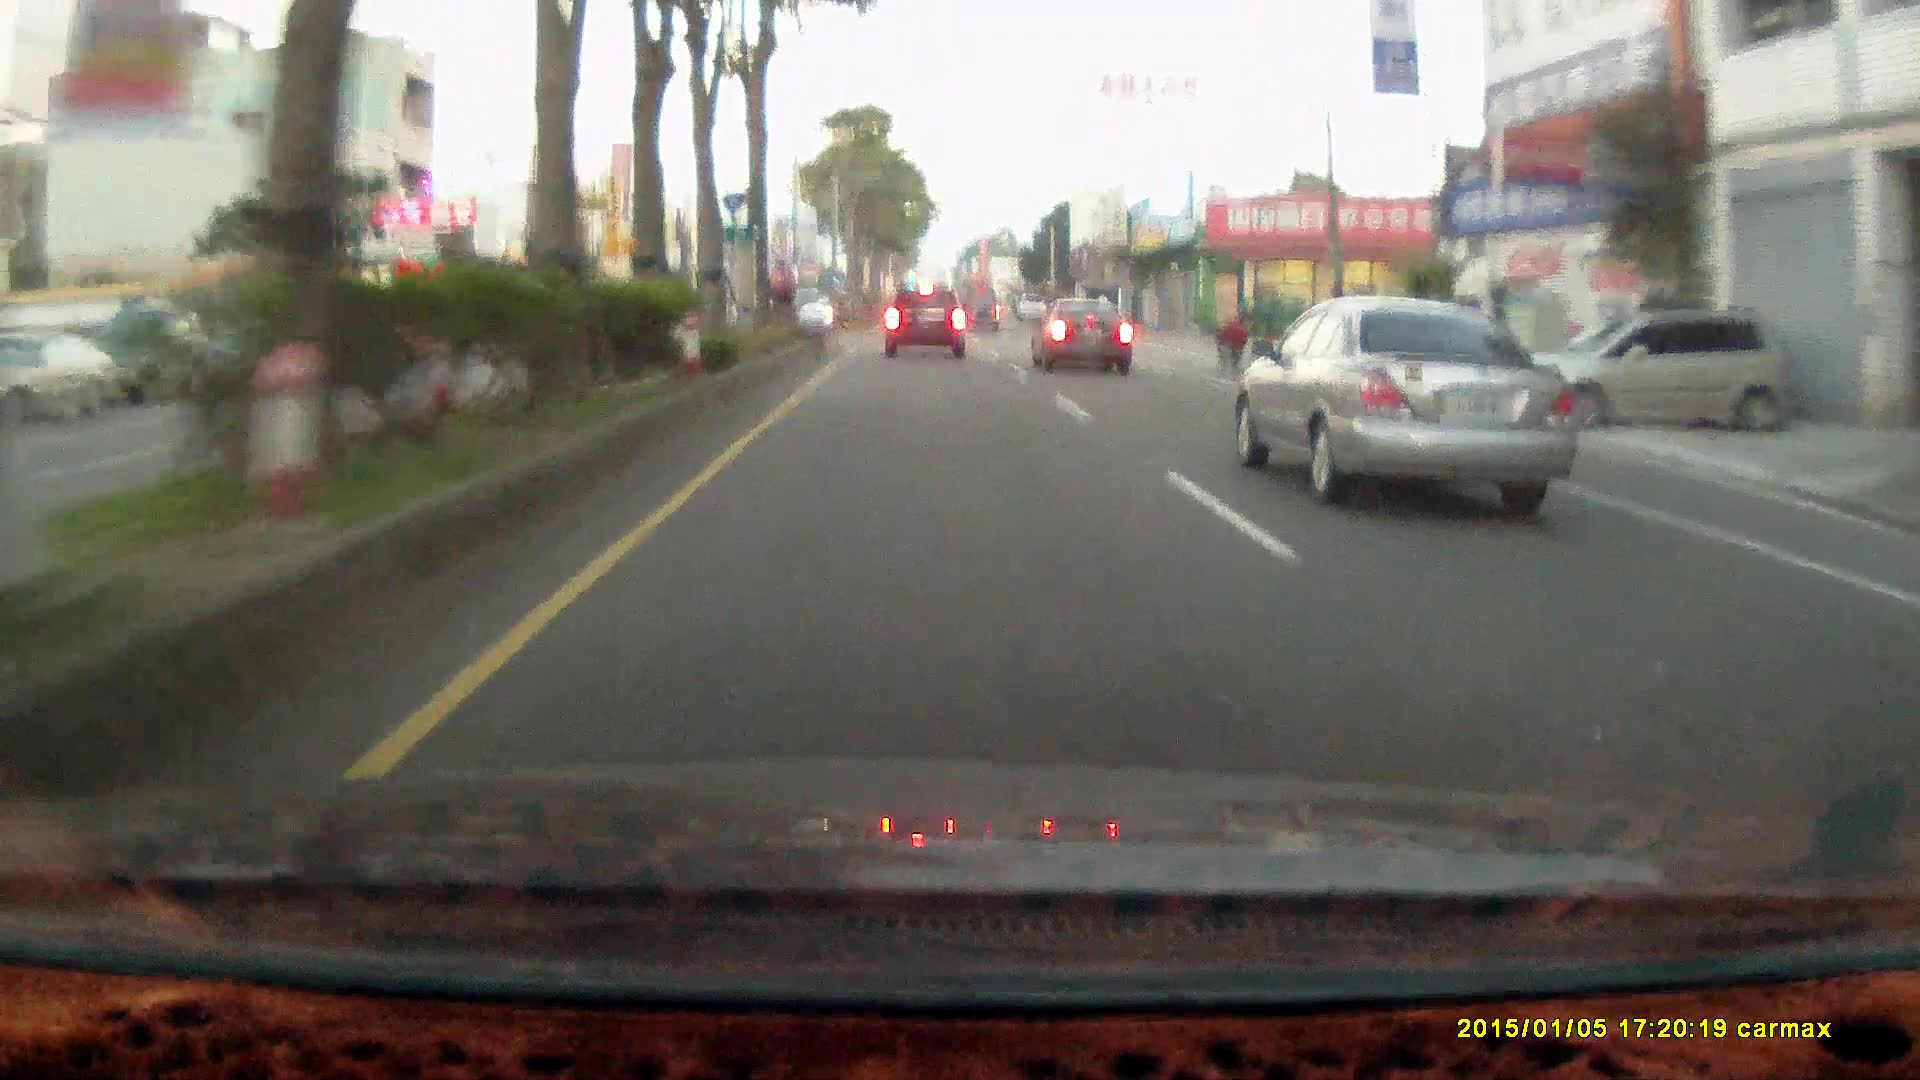pedestrian: (1222, 308, 1249, 381), (1227, 301, 1251, 368)
vehicle: (1238, 297, 1573, 505), (1519, 304, 1789, 432), (1530, 305, 1792, 433), (83, 305, 211, 405), (0, 329, 112, 427), (1032, 298, 1137, 379), (1029, 293, 1131, 371), (882, 280, 970, 362), (884, 285, 965, 360), (769, 281, 832, 337), (959, 285, 1000, 331)
